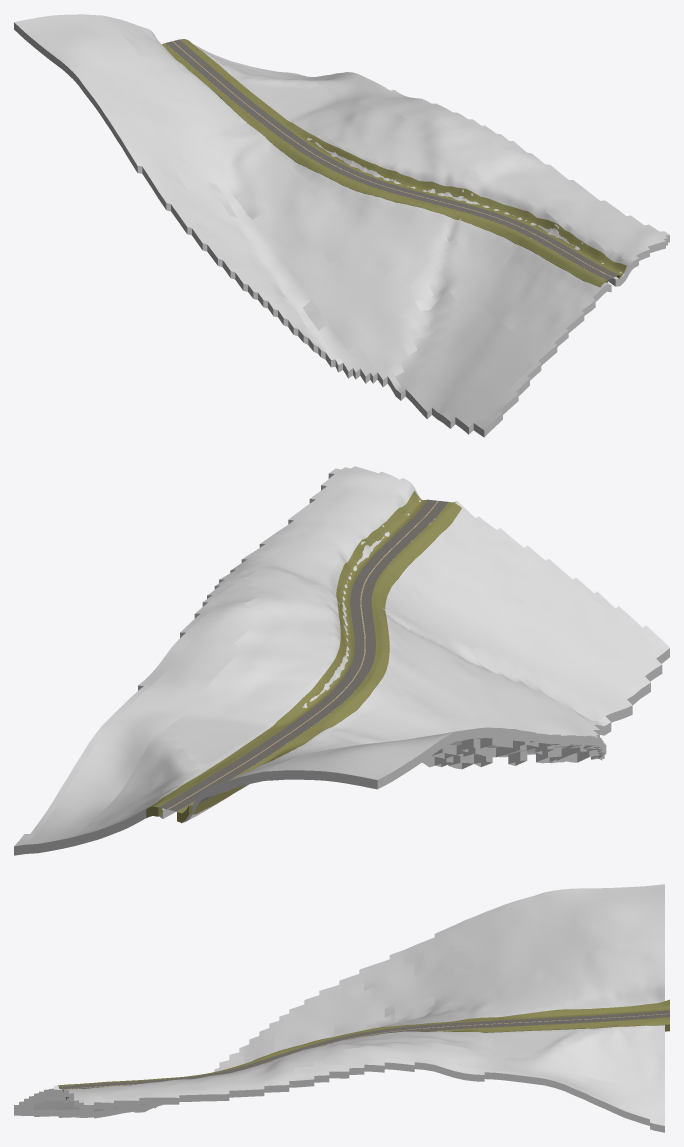
File: conz_189.glb
3 views of the same model, one above another, from view 1: azimuth 30°, elevation 25°; view 2: azimuth 150°, elevation 25°; view 3: azimuth 270°, elevation 25° (orthographic). The views are drawn at different scales.
Visible parts, largest first — view 1: terrain189, road189, verge189R, verge189L; view 2: terrain189, road189, verge189L, verge189R, paint_yellow189; view 3: terrain189, road189, verge189L, verge189R.
Boxes of the visible parts, x1,y1,x2,y2 form: terrain189: (14, 14, 669, 437); road189: (165, 39, 618, 279); verge189R: (180, 39, 626, 278); verge189L: (162, 43, 607, 287); terrain189: (14, 466, 669, 855); road189: (159, 499, 448, 811); verge189L: (177, 502, 461, 822); verge189R: (146, 490, 427, 817); paint_yellow189: (167, 501, 438, 809); terrain189: (14, 884, 664, 1132); road189: (60, 1010, 669, 1092); verge189L: (57, 999, 669, 1089); verge189R: (66, 1017, 669, 1100).
Size of the model in its own units: 148 by 81.82 by 262.
